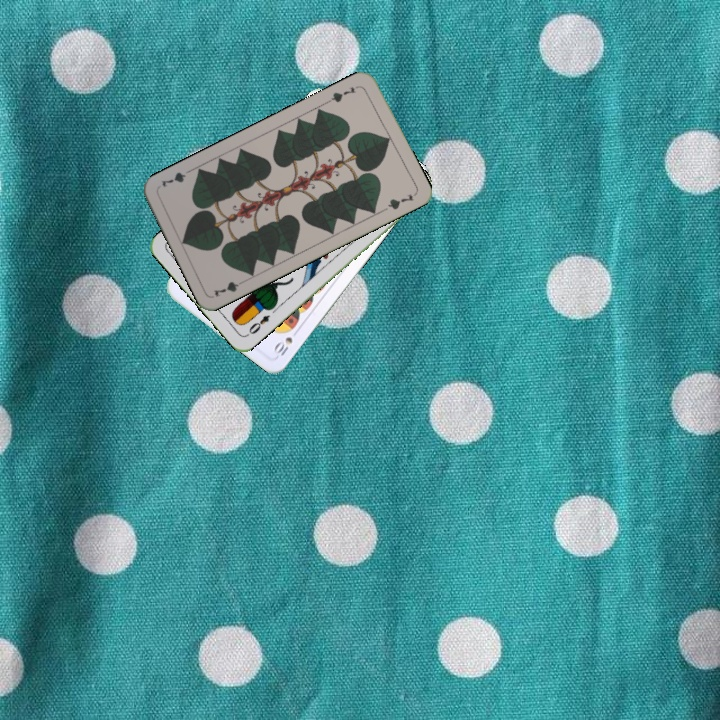EO: (243, 311, 273, 339)
G7: (209, 275, 249, 299), (324, 81, 362, 105)
S10: (270, 325, 302, 360)
